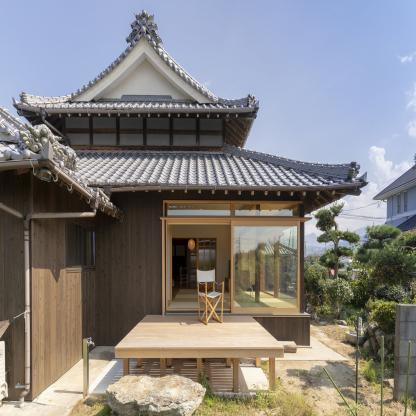Building Outline: (0, 9, 369, 401)
Dont: (106, 374, 207, 416), (197, 269, 224, 325), (83, 337, 94, 399), (0, 341, 11, 401), (0, 312, 24, 339), (278, 341, 297, 353)
Door: (164, 220, 300, 315)
Floor Slab: (62, 153, 225, 157)
Ground Floor: (0, 158, 305, 401)
Roof: (0, 105, 367, 196), (12, 9, 259, 110)
Top Floor: (62, 109, 225, 153)
Window: (65, 218, 96, 273), (164, 203, 231, 216), (235, 203, 298, 216)
Window Outline: (163, 200, 304, 216)
